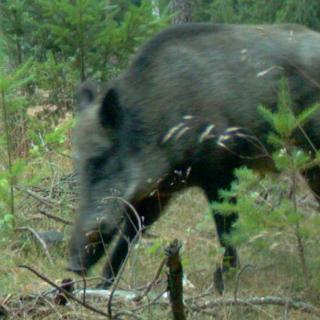Pig: (62, 26, 320, 284)
